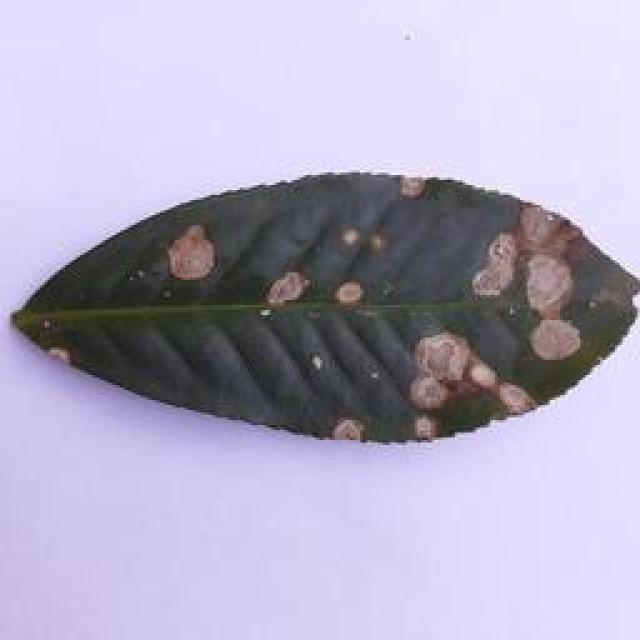Gray Blight: (11, 165, 640, 450)
